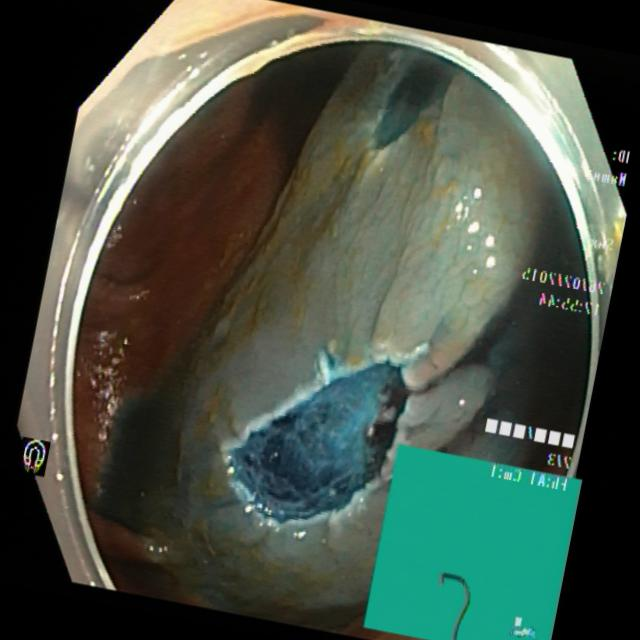dyed-resection-margins: (205, 349, 421, 542)
